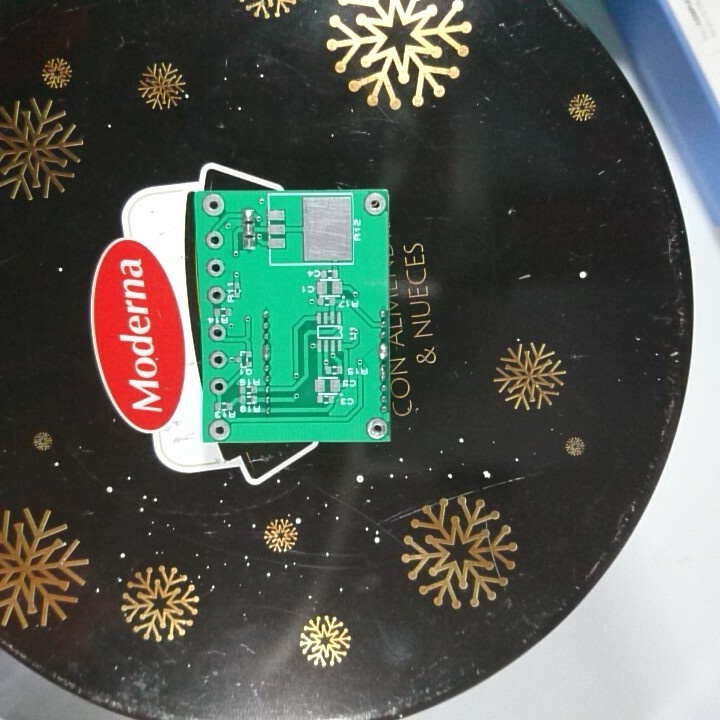F: (200, 192, 226, 220), (362, 192, 388, 218), (206, 418, 232, 442), (365, 415, 389, 440), (205, 320, 228, 345), (205, 283, 227, 307), (204, 229, 226, 252), (207, 349, 229, 371), (205, 256, 226, 279), (208, 376, 228, 395)
P: (260, 339, 274, 363), (377, 340, 389, 363), (377, 362, 390, 383)
